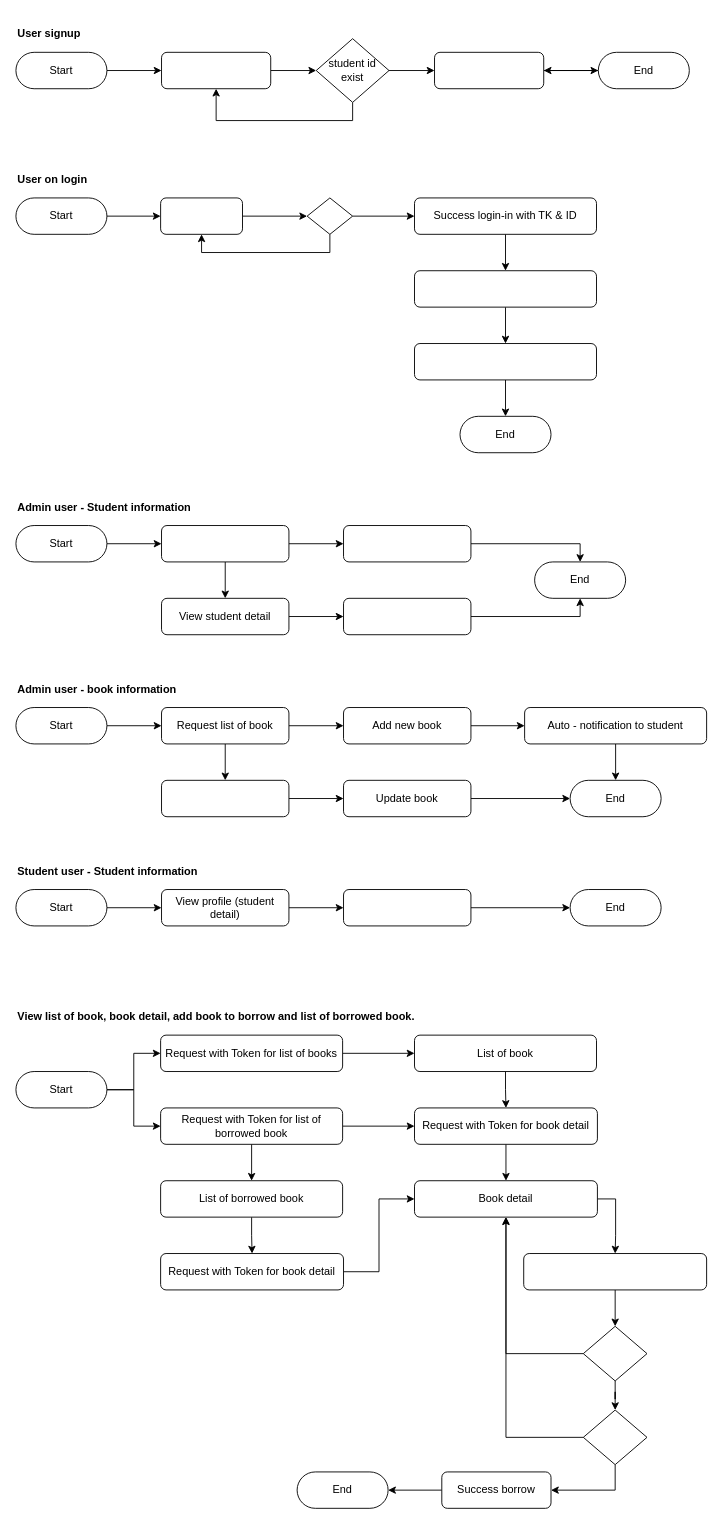
This 723x1524 diagram has some shape labels left out. Here are the shapes that lost their labels. From the top down, the centre of each, then its label:
At pixel 216 70: "Sign-up".
At pixel 489 70: "Sucess sign-up".
At pixel 201 215: "Login".
At pixel 329 215: "Auth".
At pixel 505 288: "Receive notification return book".
At pixel 505 361: "Receive notification new book".
At pixel 225 543: "Request list of student".
At pixel 407 543: "Add new student".
At pixel 407 616: "Update student".
At pixel 225 798: "View book detail".
At pixel 407 907: "Update profile".
At pixel 615 1271: "Request with Token to borrow book".
At pixel 614 1353: "available".
At pixel 614 1437: "< 3 books hold".
